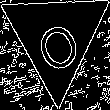O_NW: (28, 5, 84, 71)
